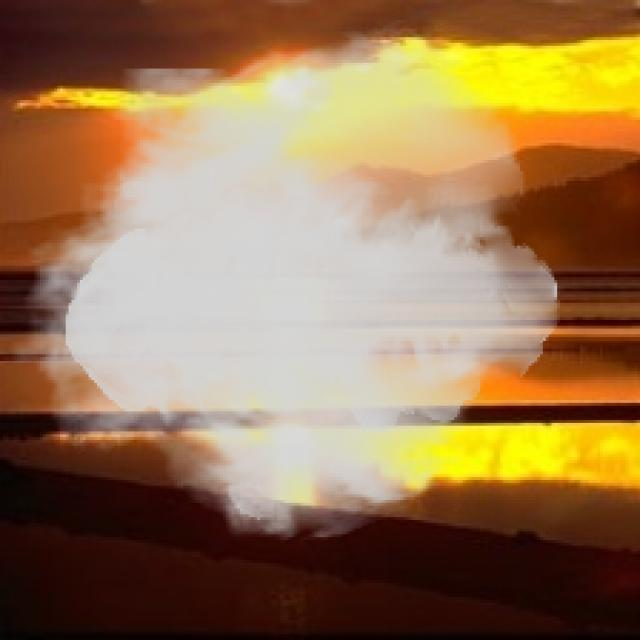smoke: (9, 23, 560, 546)
